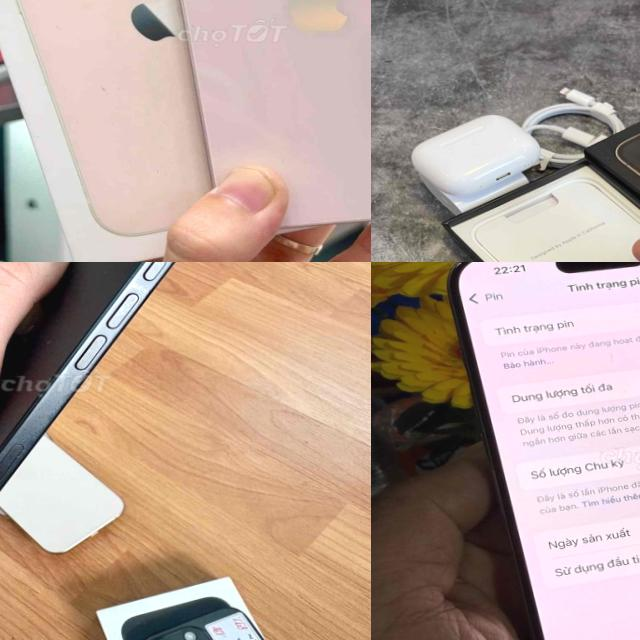gen_12_13: (140, 0, 371, 238)
gen_15: (416, 262, 640, 640)
gen_16: (0, 262, 173, 490)
